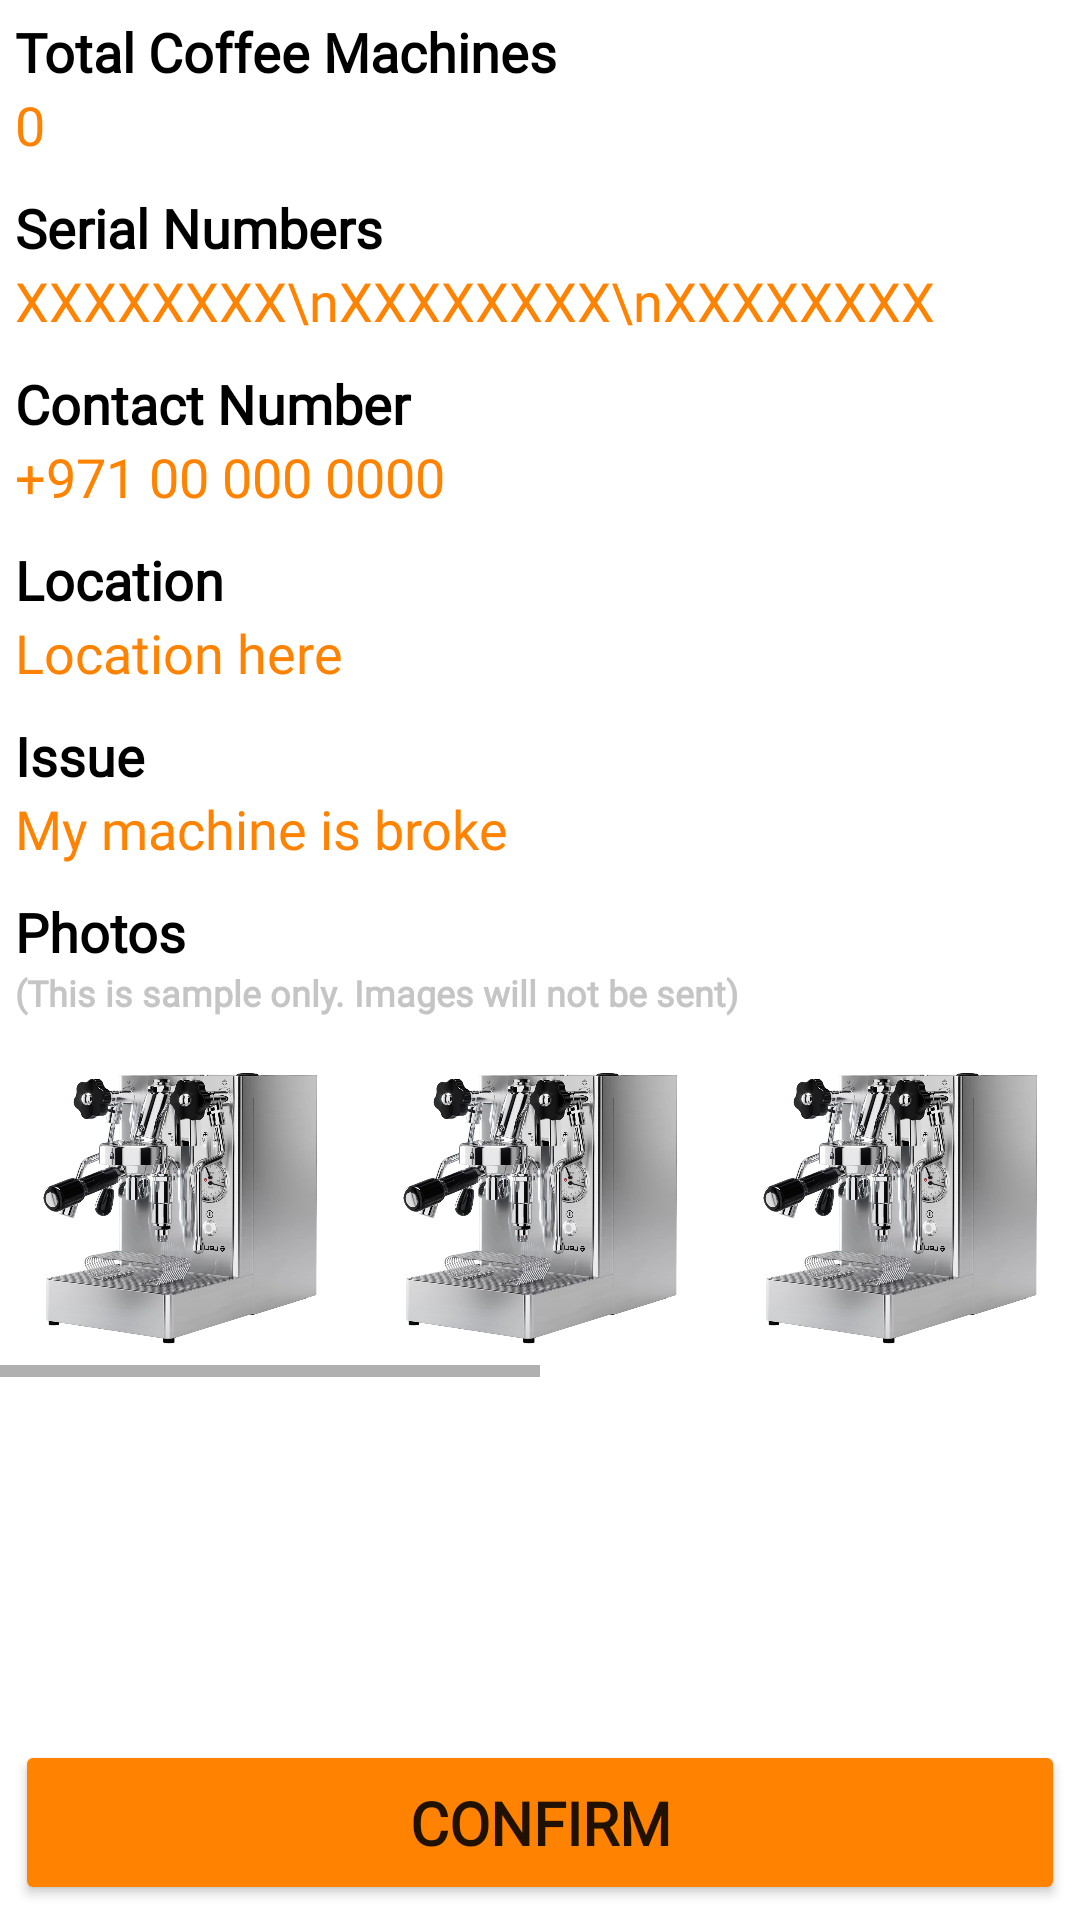

Screen size 1080x1920. Icon name, then its box in pixels as (x1, y1, x2, y2):
coffee machine: (43, 1073, 317, 1344), (403, 1073, 677, 1344), (763, 1073, 1037, 1344)
